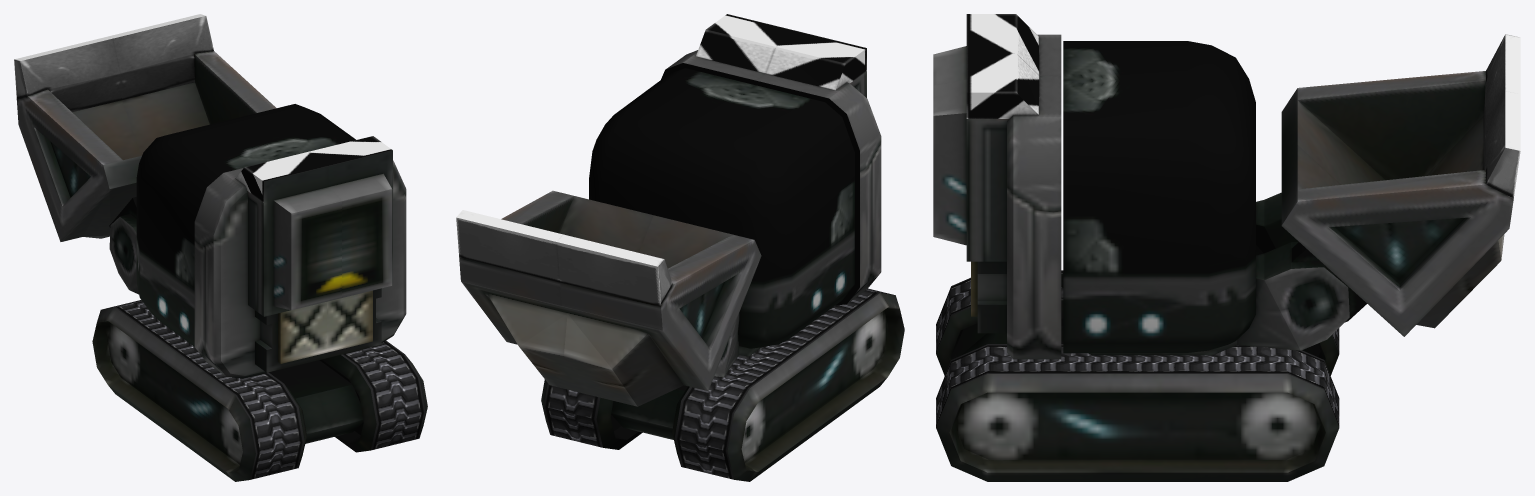
Rendered from engineer.FBX.
3 views of the same model, side by side, from view 1: azimuth 30°, elevation 25°; view 2: azimuth 150°, elevation 25°; view 3: azimuth 270°, elevation 25° (orthographic). The views are drawn at different scales.
Parts seen in each view (by area): view 1: engineer, colour_engineer, tracks_engineer; view 2: engineer, colour_engineer, tracks_engineer; view 3: engineer, colour_engineer, tracks_engineer.
Boxes of the visible parts, box(x1,y1,x2,y2) form: engineer: box(16, 51, 427, 481); colour_engineer: box(14, 14, 392, 202); tracks_engineer: box(102, 300, 425, 479); engineer: box(459, 50, 904, 481); colour_engineer: box(456, 14, 866, 305); tracks_engineer: box(543, 288, 893, 479); engineer: box(933, 34, 1513, 481); colour_engineer: box(966, 14, 1520, 198); tracks_engineer: box(936, 270, 1339, 427).
Bounding box in the file's own units: 84.14 × 126 × 178.
